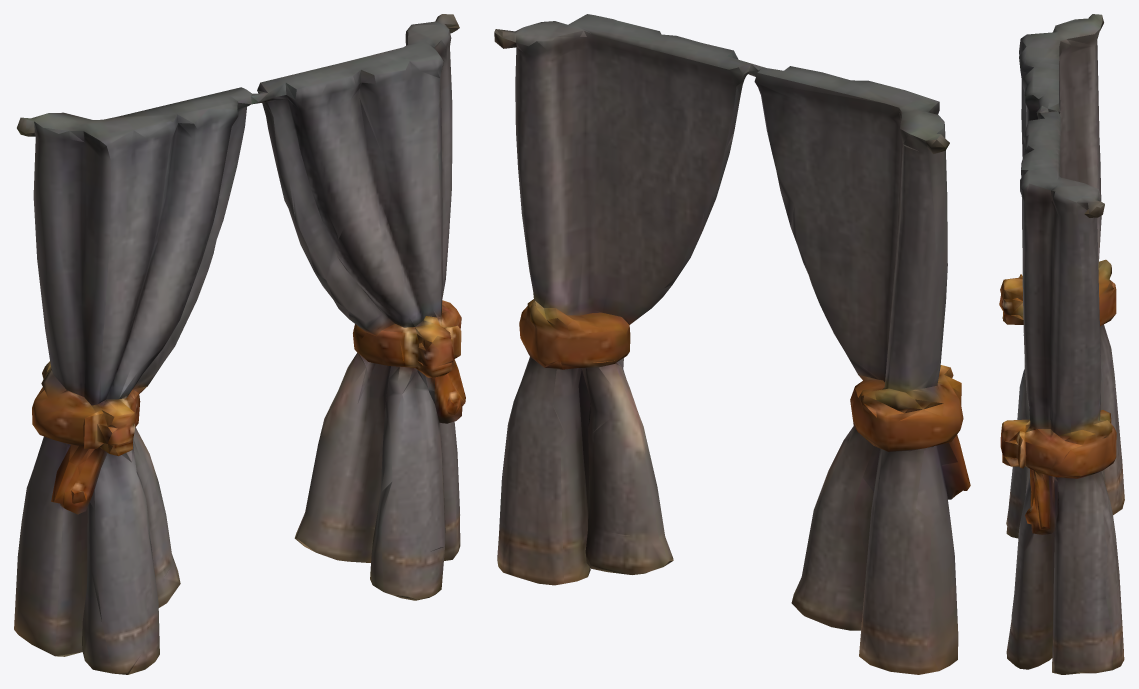
Rendered from curtain16.glb.
3 views of the same model, side by side, from view 1: azimuth 30°, elevation 25°; view 2: azimuth 150°, elevation 25°; view 3: azimuth 270°, elevation 25° (orthographic). The views are drawn at different scales.
Bounding box in the file's own units: 0.2334 × 0.272 × 0.0633.
1 material, 1 textured.
